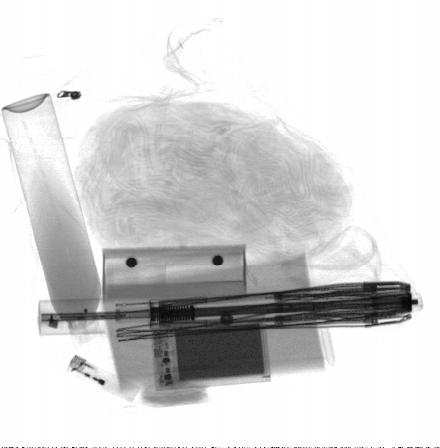Lighter: (67, 353, 142, 403)
Powerbank: (150, 316, 272, 390)
Sprayer: (1, 92, 102, 349)
